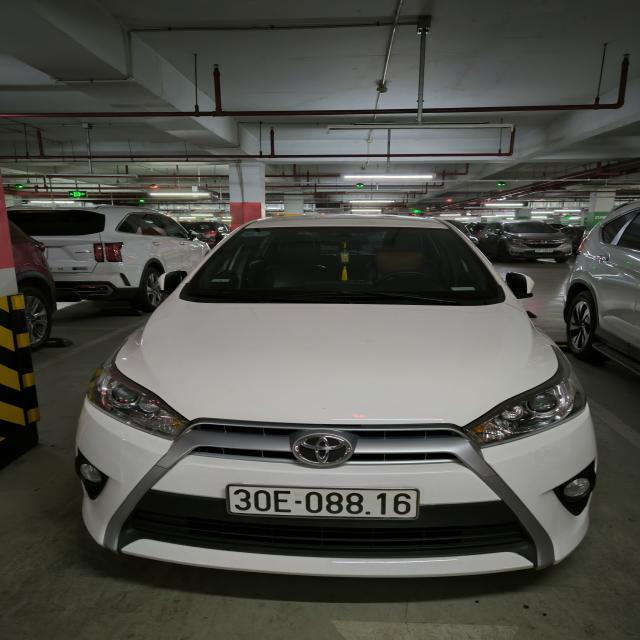license: (225, 484, 419, 520)
